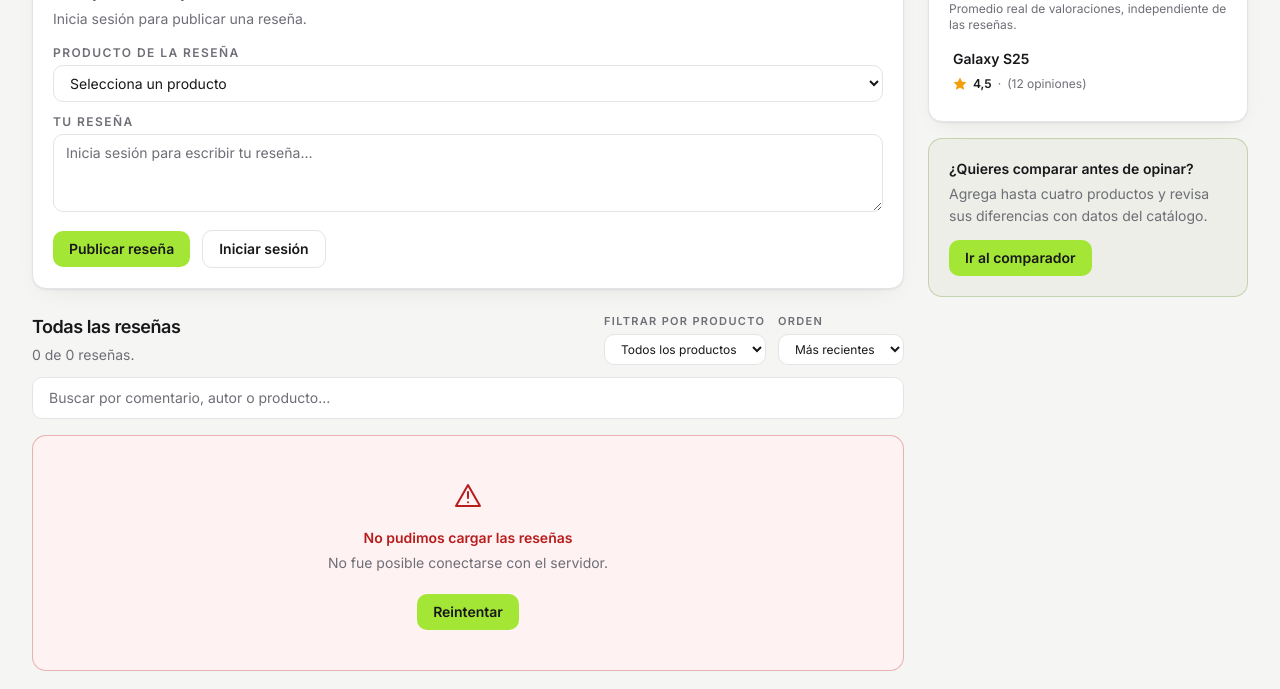
it: ResenasCliente › muestra el error de carga y permite reintentar
(page scrolled)
Check: the message shows "No pudimos cargar las reseñas", box [364, 528, 572, 546]
Click the button "Reintentar" at [468, 612], box [417, 594, 519, 630]
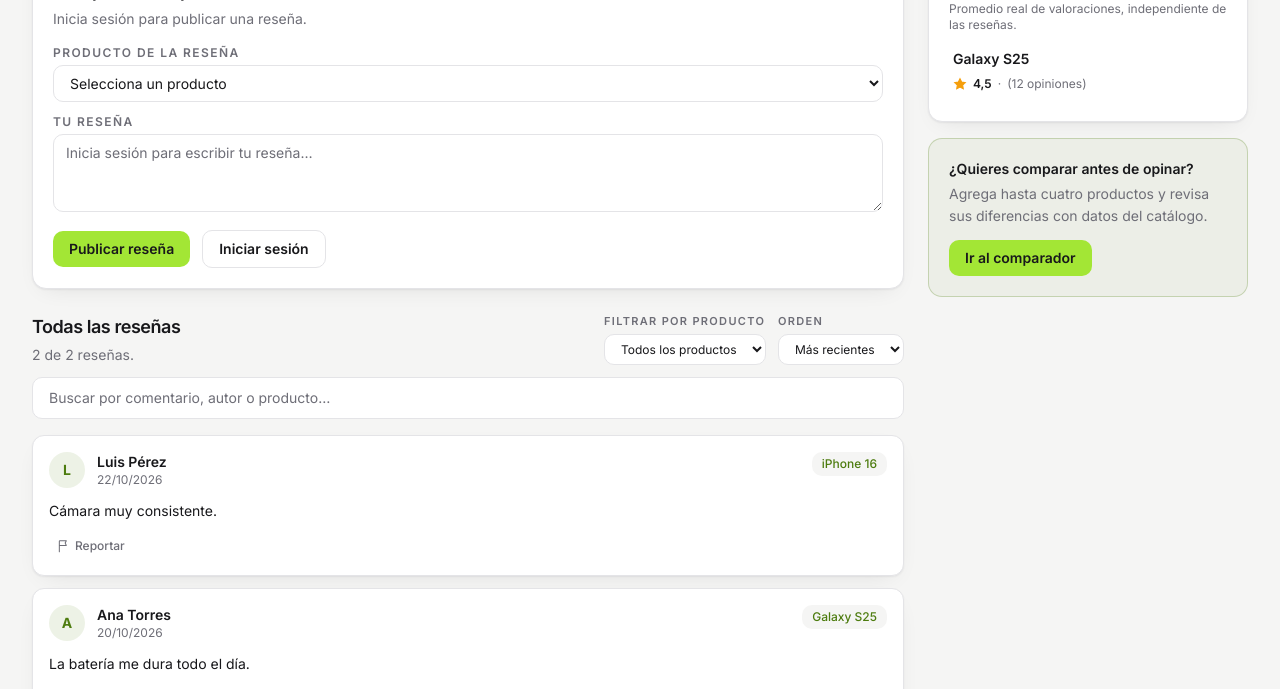
Check: the text "La batería me dura todo el día." is shown, box [49, 655, 250, 672]
